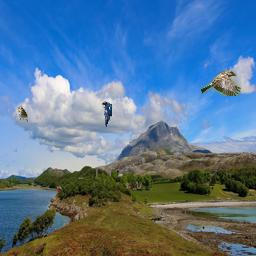Sparrow: (201, 70, 241, 96), (17, 106, 28, 122)
Swallow: (101, 101, 112, 127)
